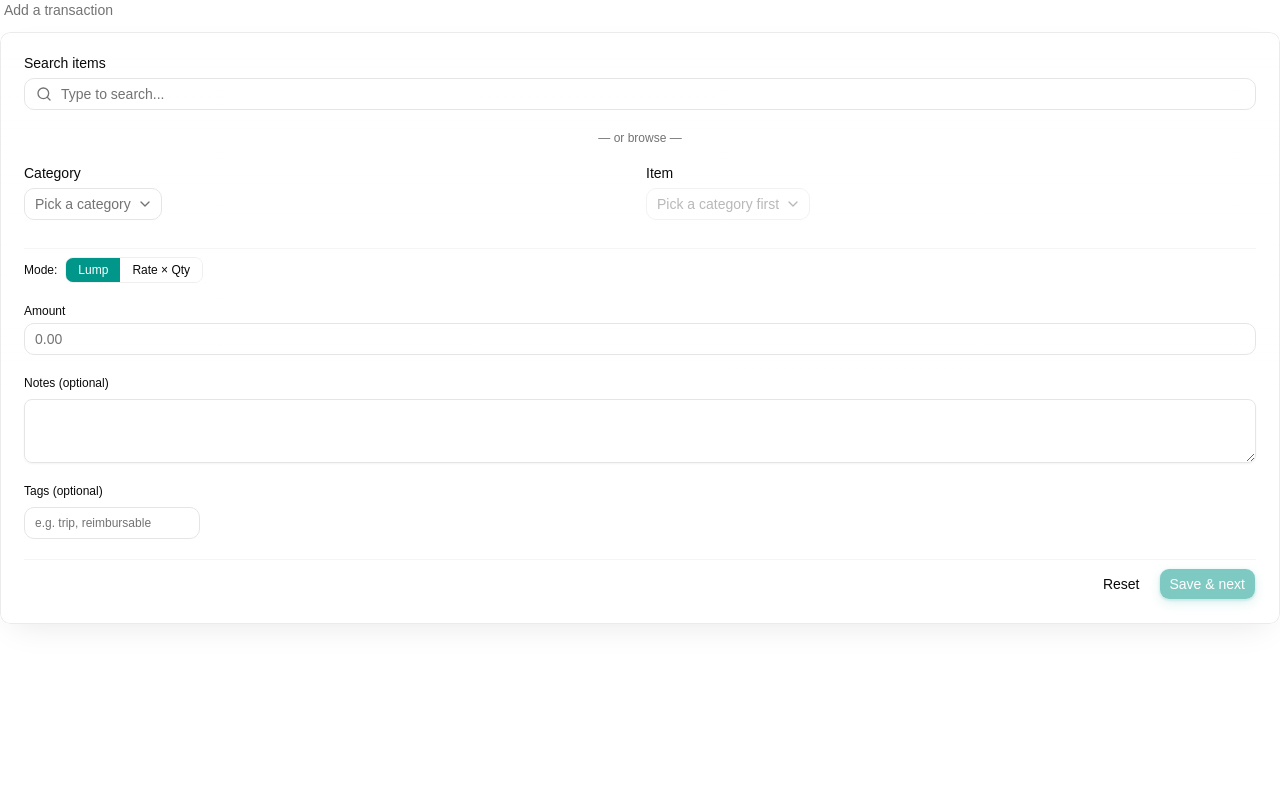
it: TransactionEntryForm inline item creation › closes the panel on Escape without creating anything
This screenshot has width=1280, height=800.
Step 1. Type "Chai" into the field labelled "Search items" → (640, 94), box [24, 78, 1256, 110]
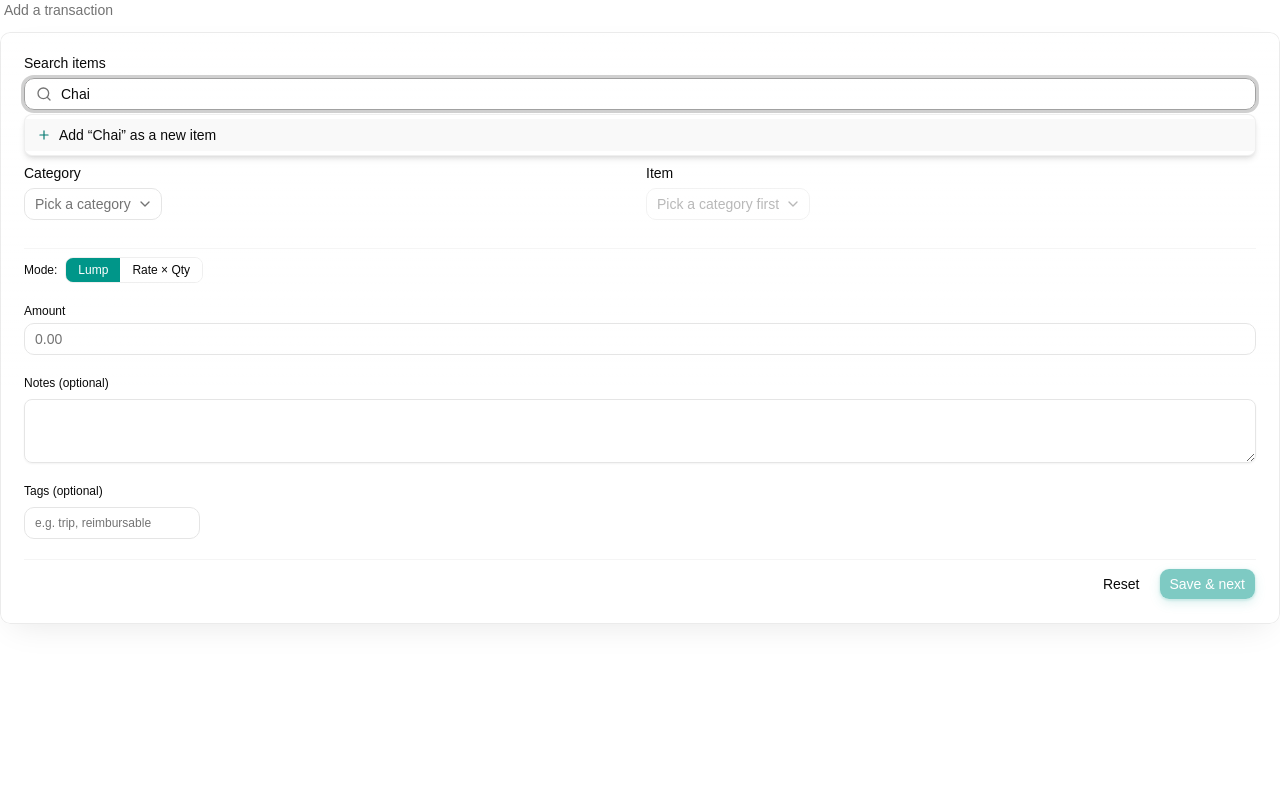
Step 2. Press Enter
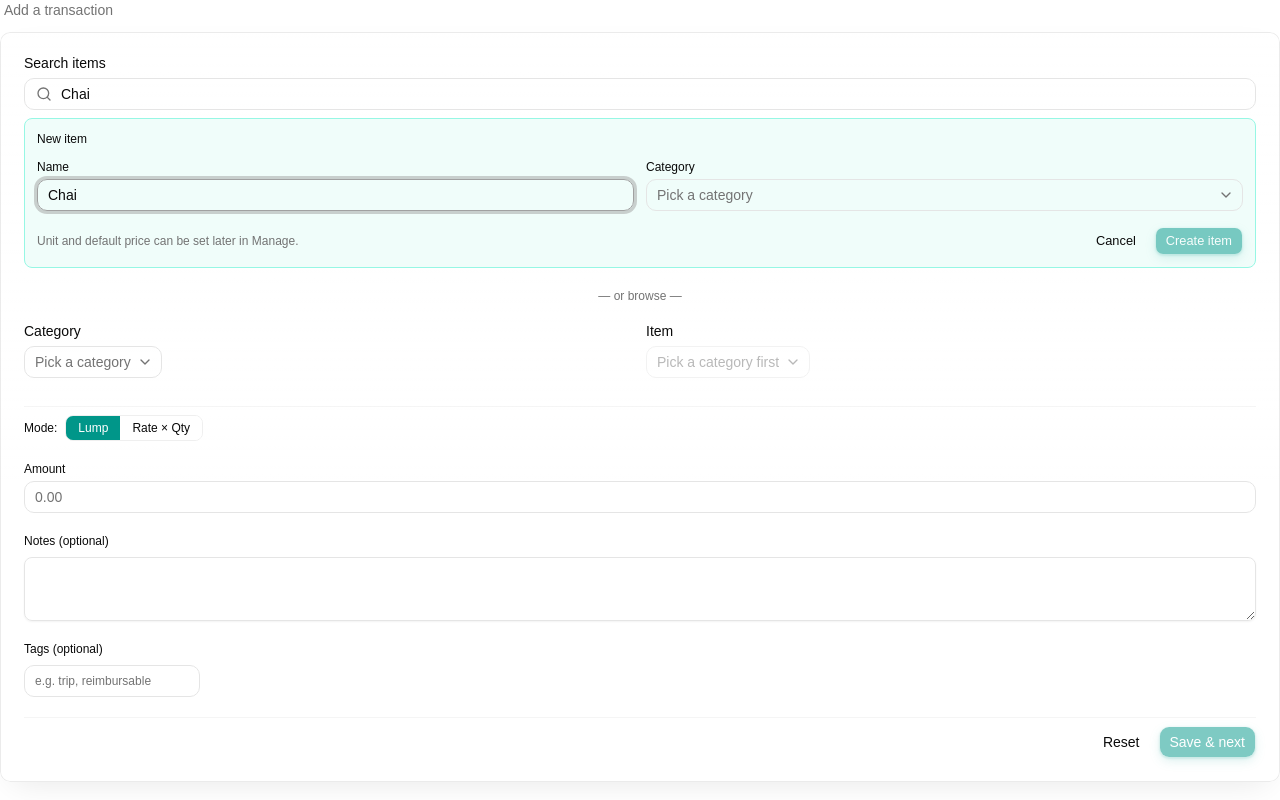
Step 3. Press Escape
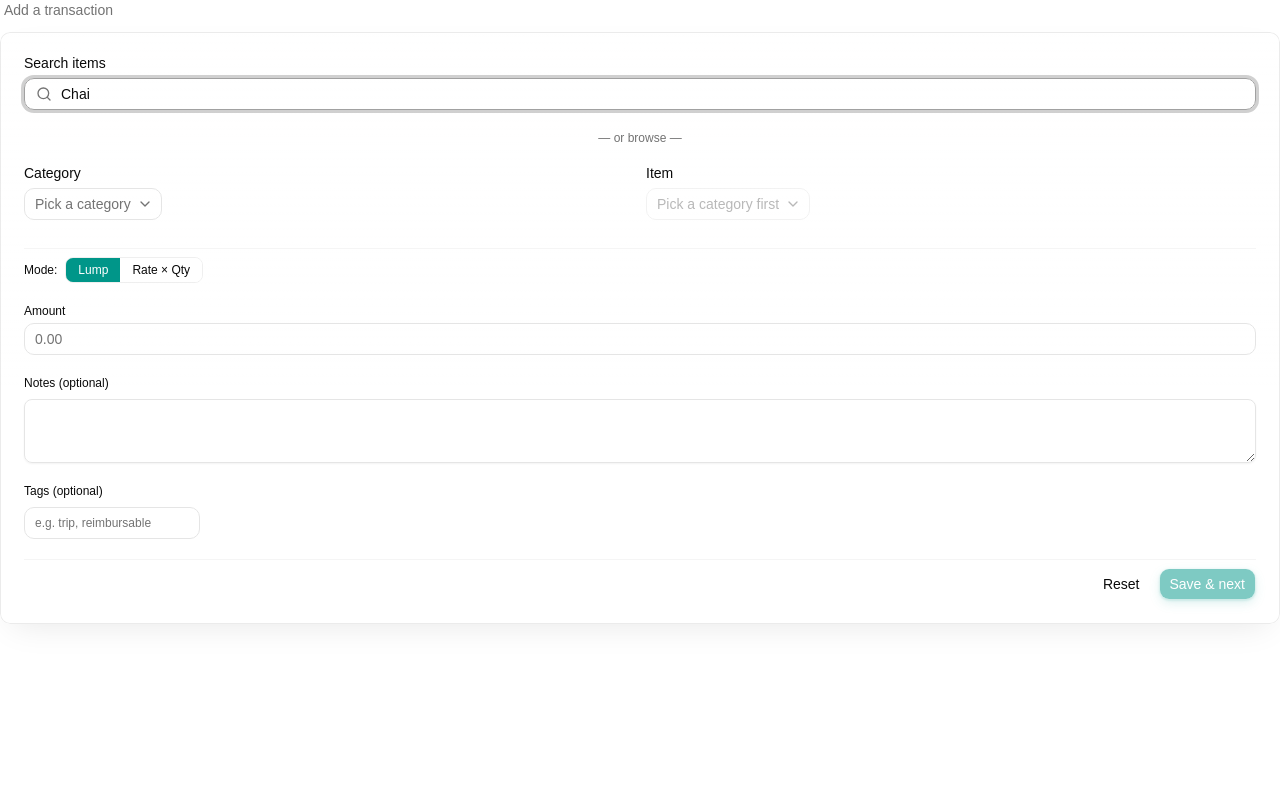
Check: the label labelled "Name" is gone
